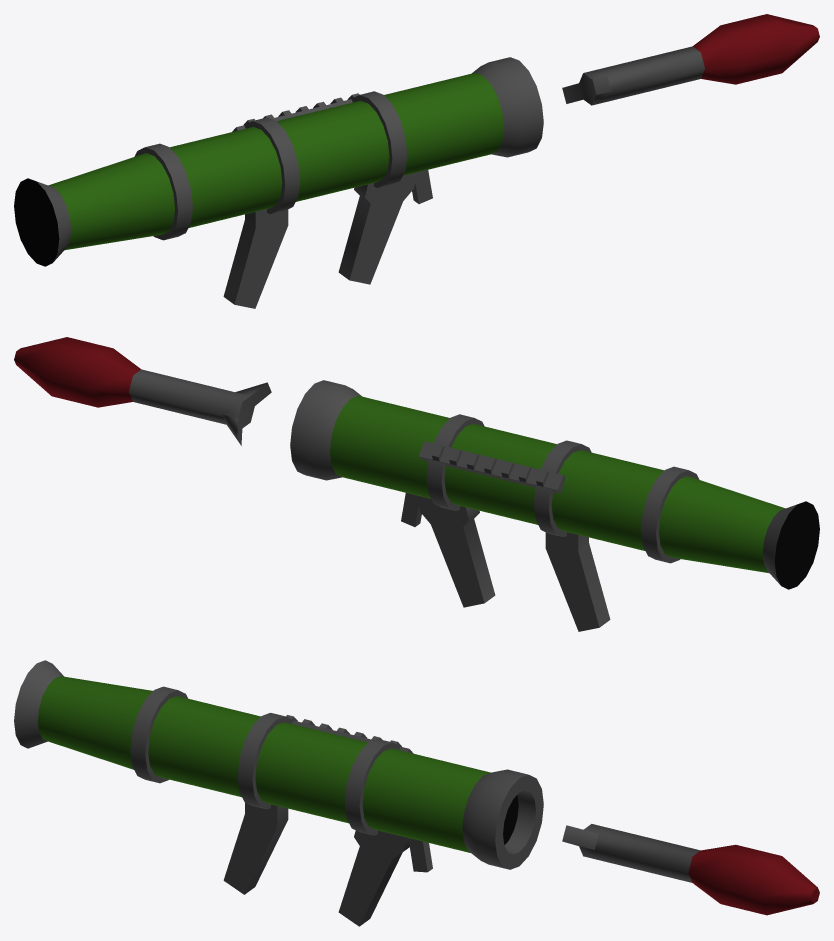
File: launch.fbx
3 renders of one model, top to bottom at view 1: azimuth 30°, elevation 25°; view 2: azimuth 150°, elevation 25°; view 3: azimuth 330°, elevation 25°, orthographic.
Visible parts, largest first — view 1: Cube.003, Cylinder; view 2: Cube.003, Cylinder; view 3: Cube.003, Cylinder.
Boxes of the visible parts, box(x1,y1,x2,y2) form: Cube.003: box(14, 57, 543, 308); Cylinder: box(562, 14, 819, 105); Cube.003: box(290, 380, 819, 631); Cylinder: box(14, 337, 271, 445); Cube.003: box(14, 660, 543, 926); Cylinder: box(562, 824, 819, 915).
Bounding box in the file's own units: 106 × 23.78 × 11.51.
